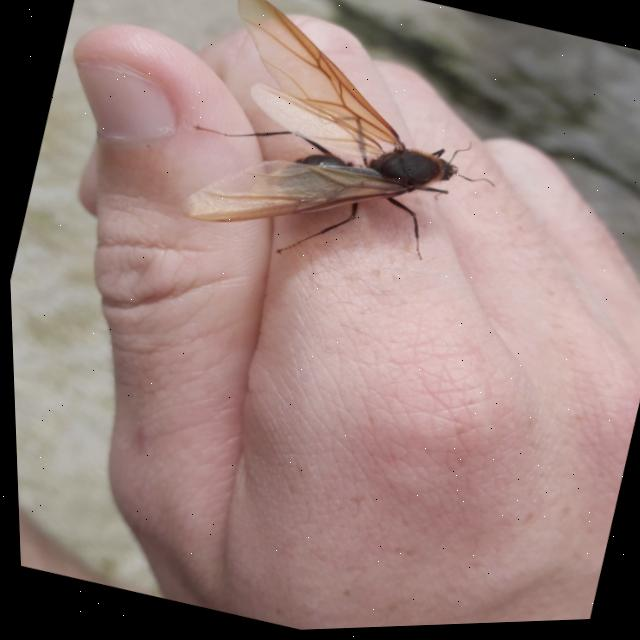Alive-Male-Alate: (161, 0, 532, 310)
